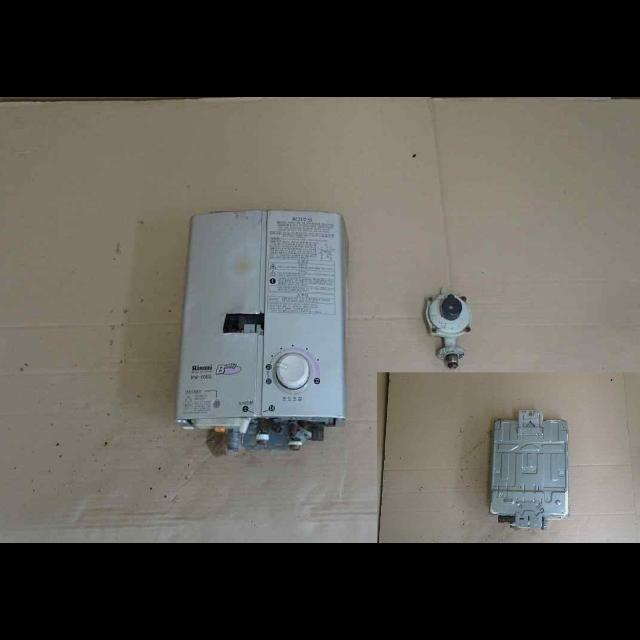Boiler: (148, 189, 372, 456)
